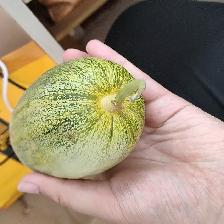gua: (23, 70, 150, 171)
